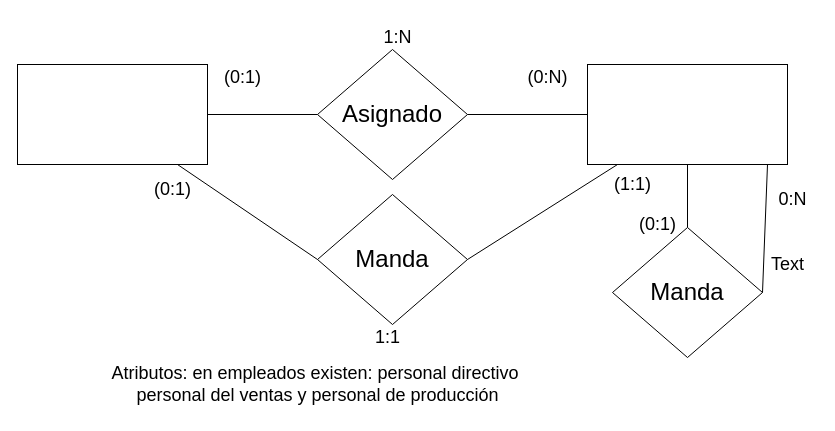
The diagram is 835 pixels wide and 431 high, and some of its shapes have lost their labels. The shapes that lost their labels are listed below. From the top down, each one's box as (x1, y1, x2, y2) in pixels, then its label:
(16, 64, 208, 164): Departamento
(586, 64, 788, 164): Empleado
